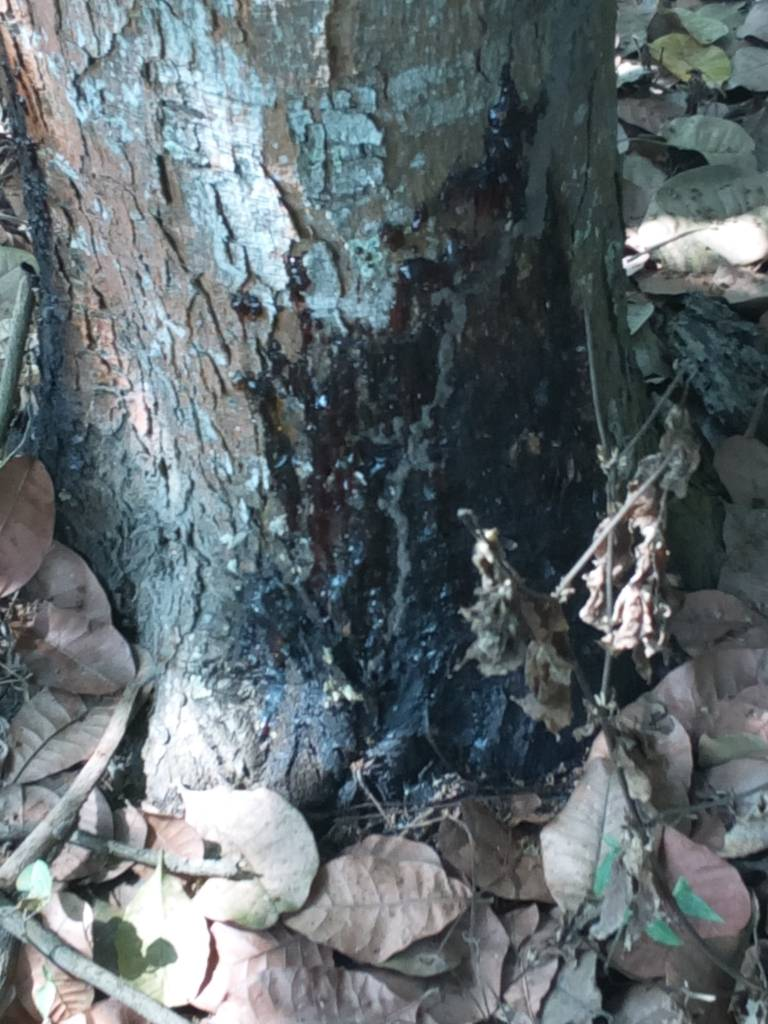Gommose: (202, 91, 629, 792)
